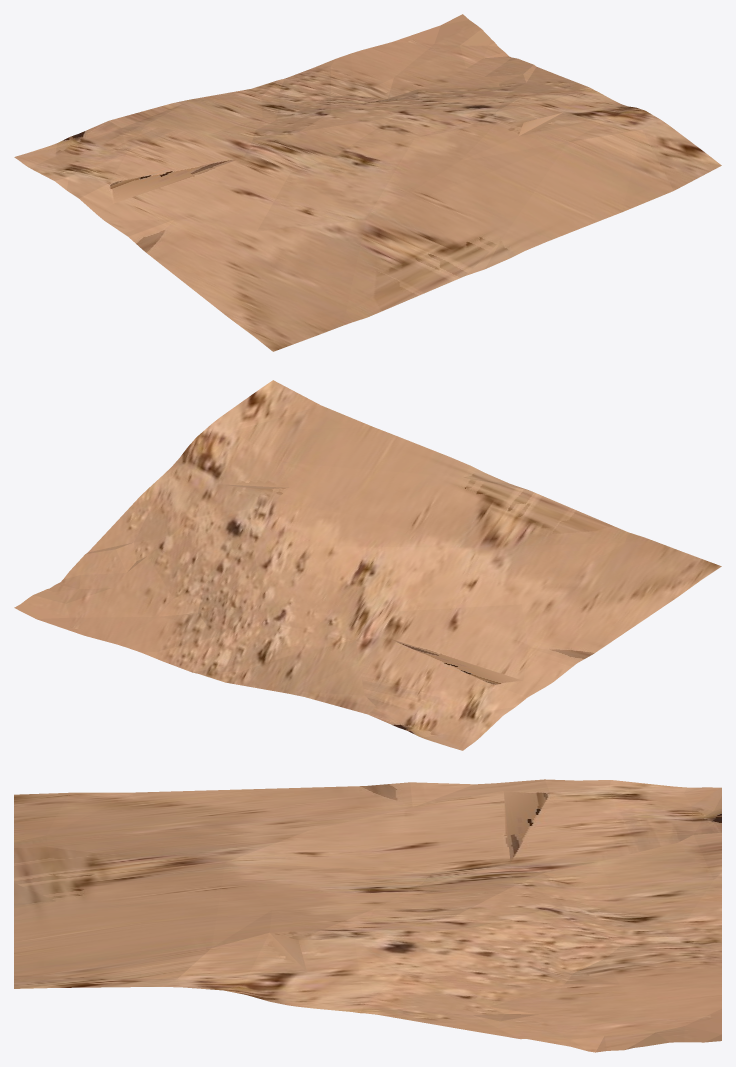
3 views of the same model, one above another, from view 1: azimuth 30°, elevation 25°; view 2: azimuth 150°, elevation 25°; view 3: azimuth 270°, elevation 25° (orthographic). The views are drawn at different scales.
Size of the model in its own units: 1.04 by 0.1743 by 1.04.
3 materials, 3 textured.
